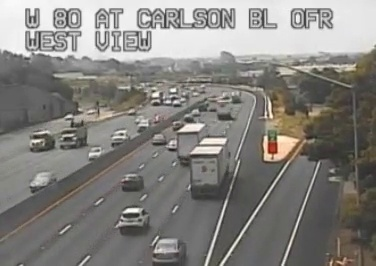car: (153, 239, 185, 263), (119, 207, 149, 229), (121, 174, 143, 191), (151, 134, 165, 145)
truck: (190, 136, 229, 196), (177, 123, 207, 165)
